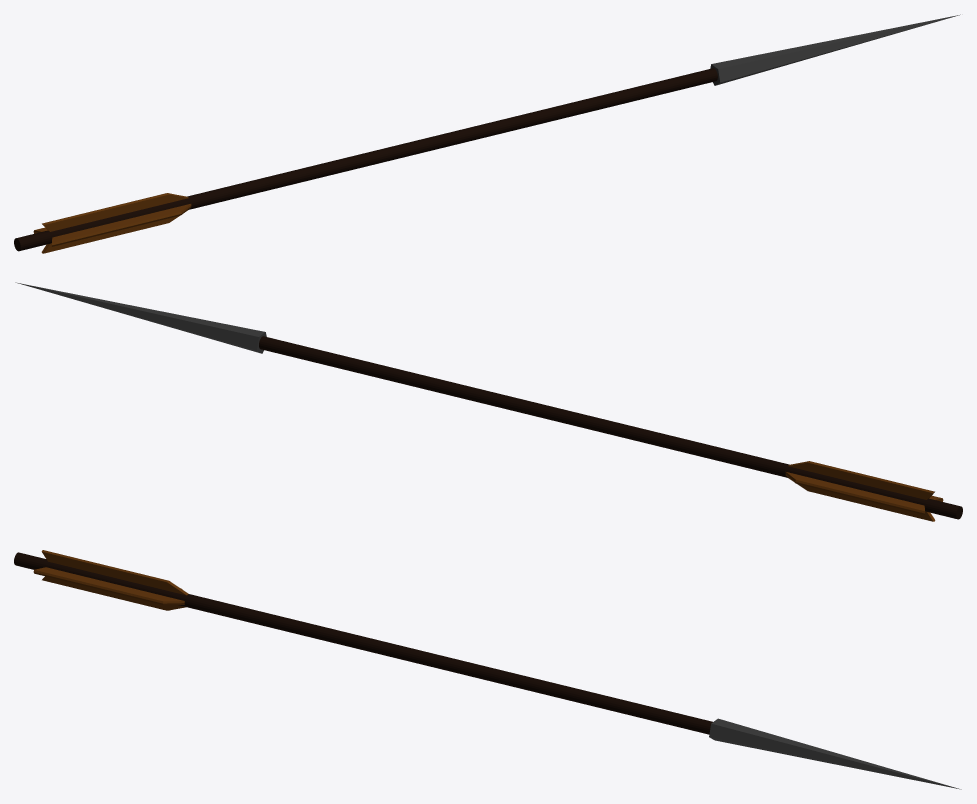
The model's file is Arrow_2.FBX.
The picture shows the model from 3 angles, top to bottom: view 1: azimuth 30°, elevation 25°; view 2: azimuth 150°, elevation 25°; view 3: azimuth 330°, elevation 25°; orthographic projection.
Parts seen in each view (by area): view 1: Arrow; view 2: Arrow; view 3: Arrow.
Part boxes in pixels (<box>): Arrow: <box>14,14,960,253</box>; Arrow: <box>15,282,962,521</box>; Arrow: <box>14,550,961,789</box>.
Size of what is drawn, in the model's own units: 99.29 by 3.39 by 3.01.
